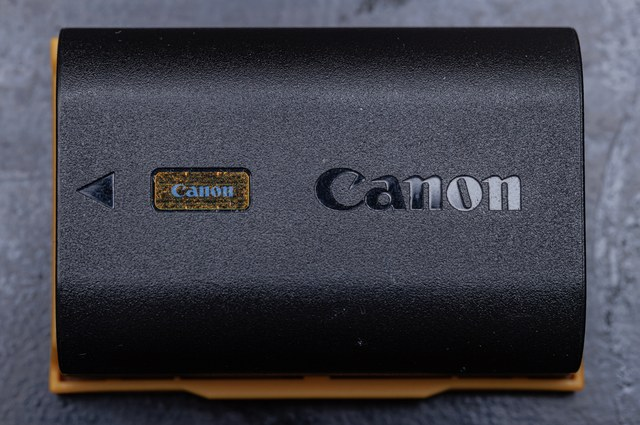Mi 10000mAh Power Bank: (32, 21, 608, 404)
